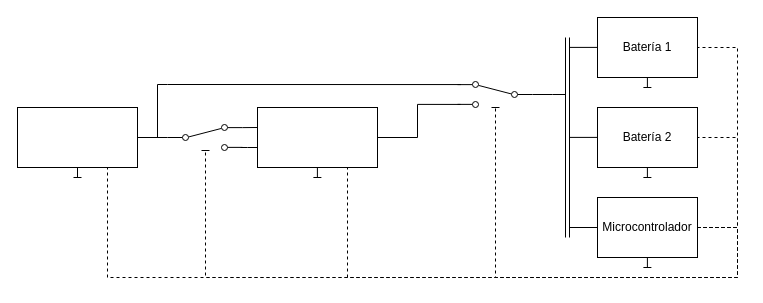
Some shapes in this 763 by 303 pixel diagram are drawn without their labels. The box of each missing label's shape, as (x1, y1, x2, y2) in pixels:
Batería Backup: (256, 106, 378, 168)
Panel solar: (16, 106, 138, 168)
